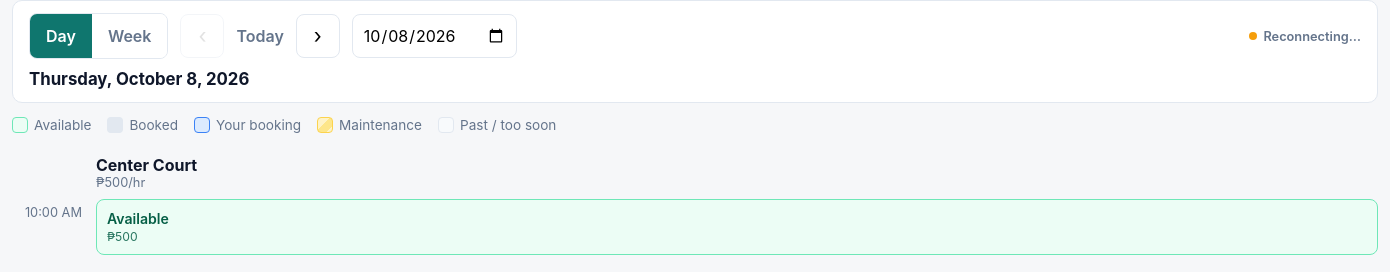
Scenario: navigation › switches to the week view for one court
Click the button "Week" at (130, 36), box x1=92 y1=14 x2=167 y2=58
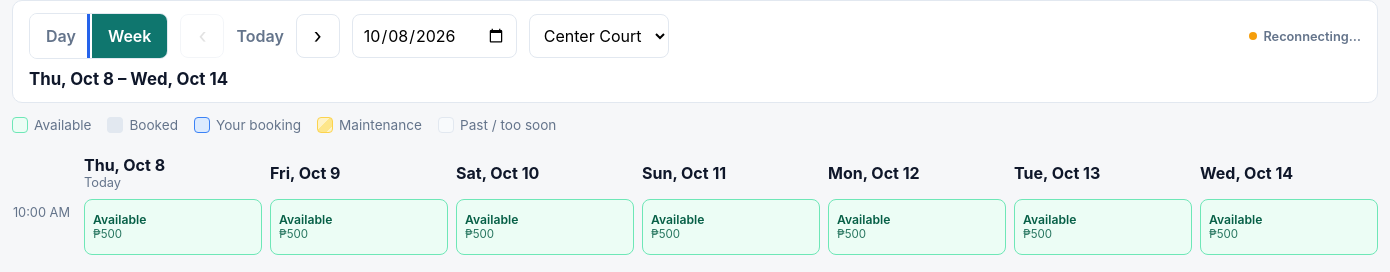
Result: the number of buttons "Available ₱500" is 7
